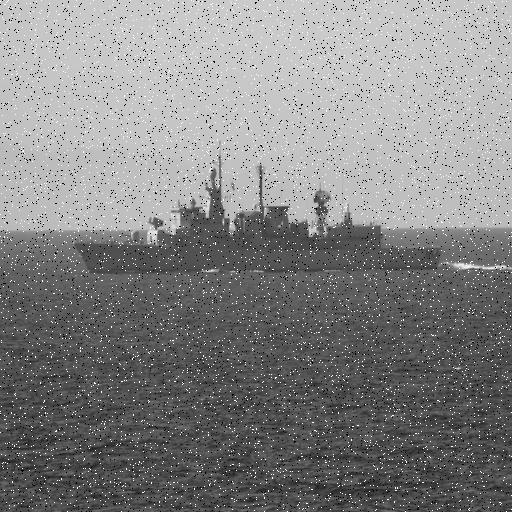Fragata: (73, 130, 445, 278)
